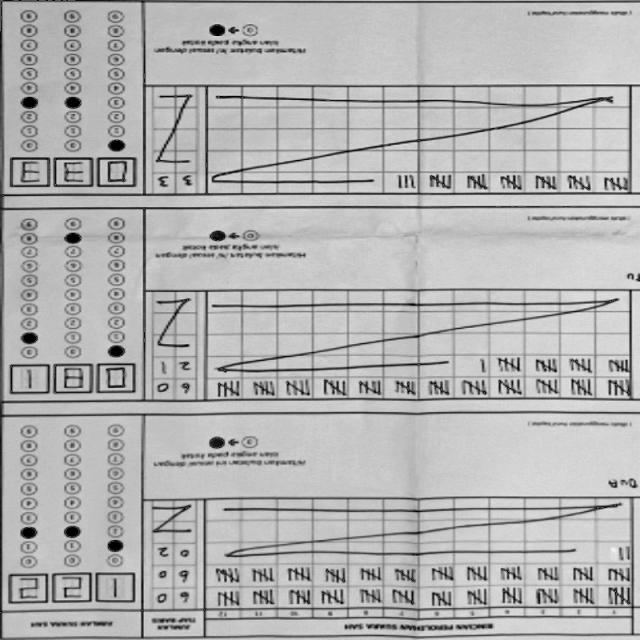Suara: (2, 570, 142, 606), (2, 363, 142, 399), (2, 154, 142, 190)
